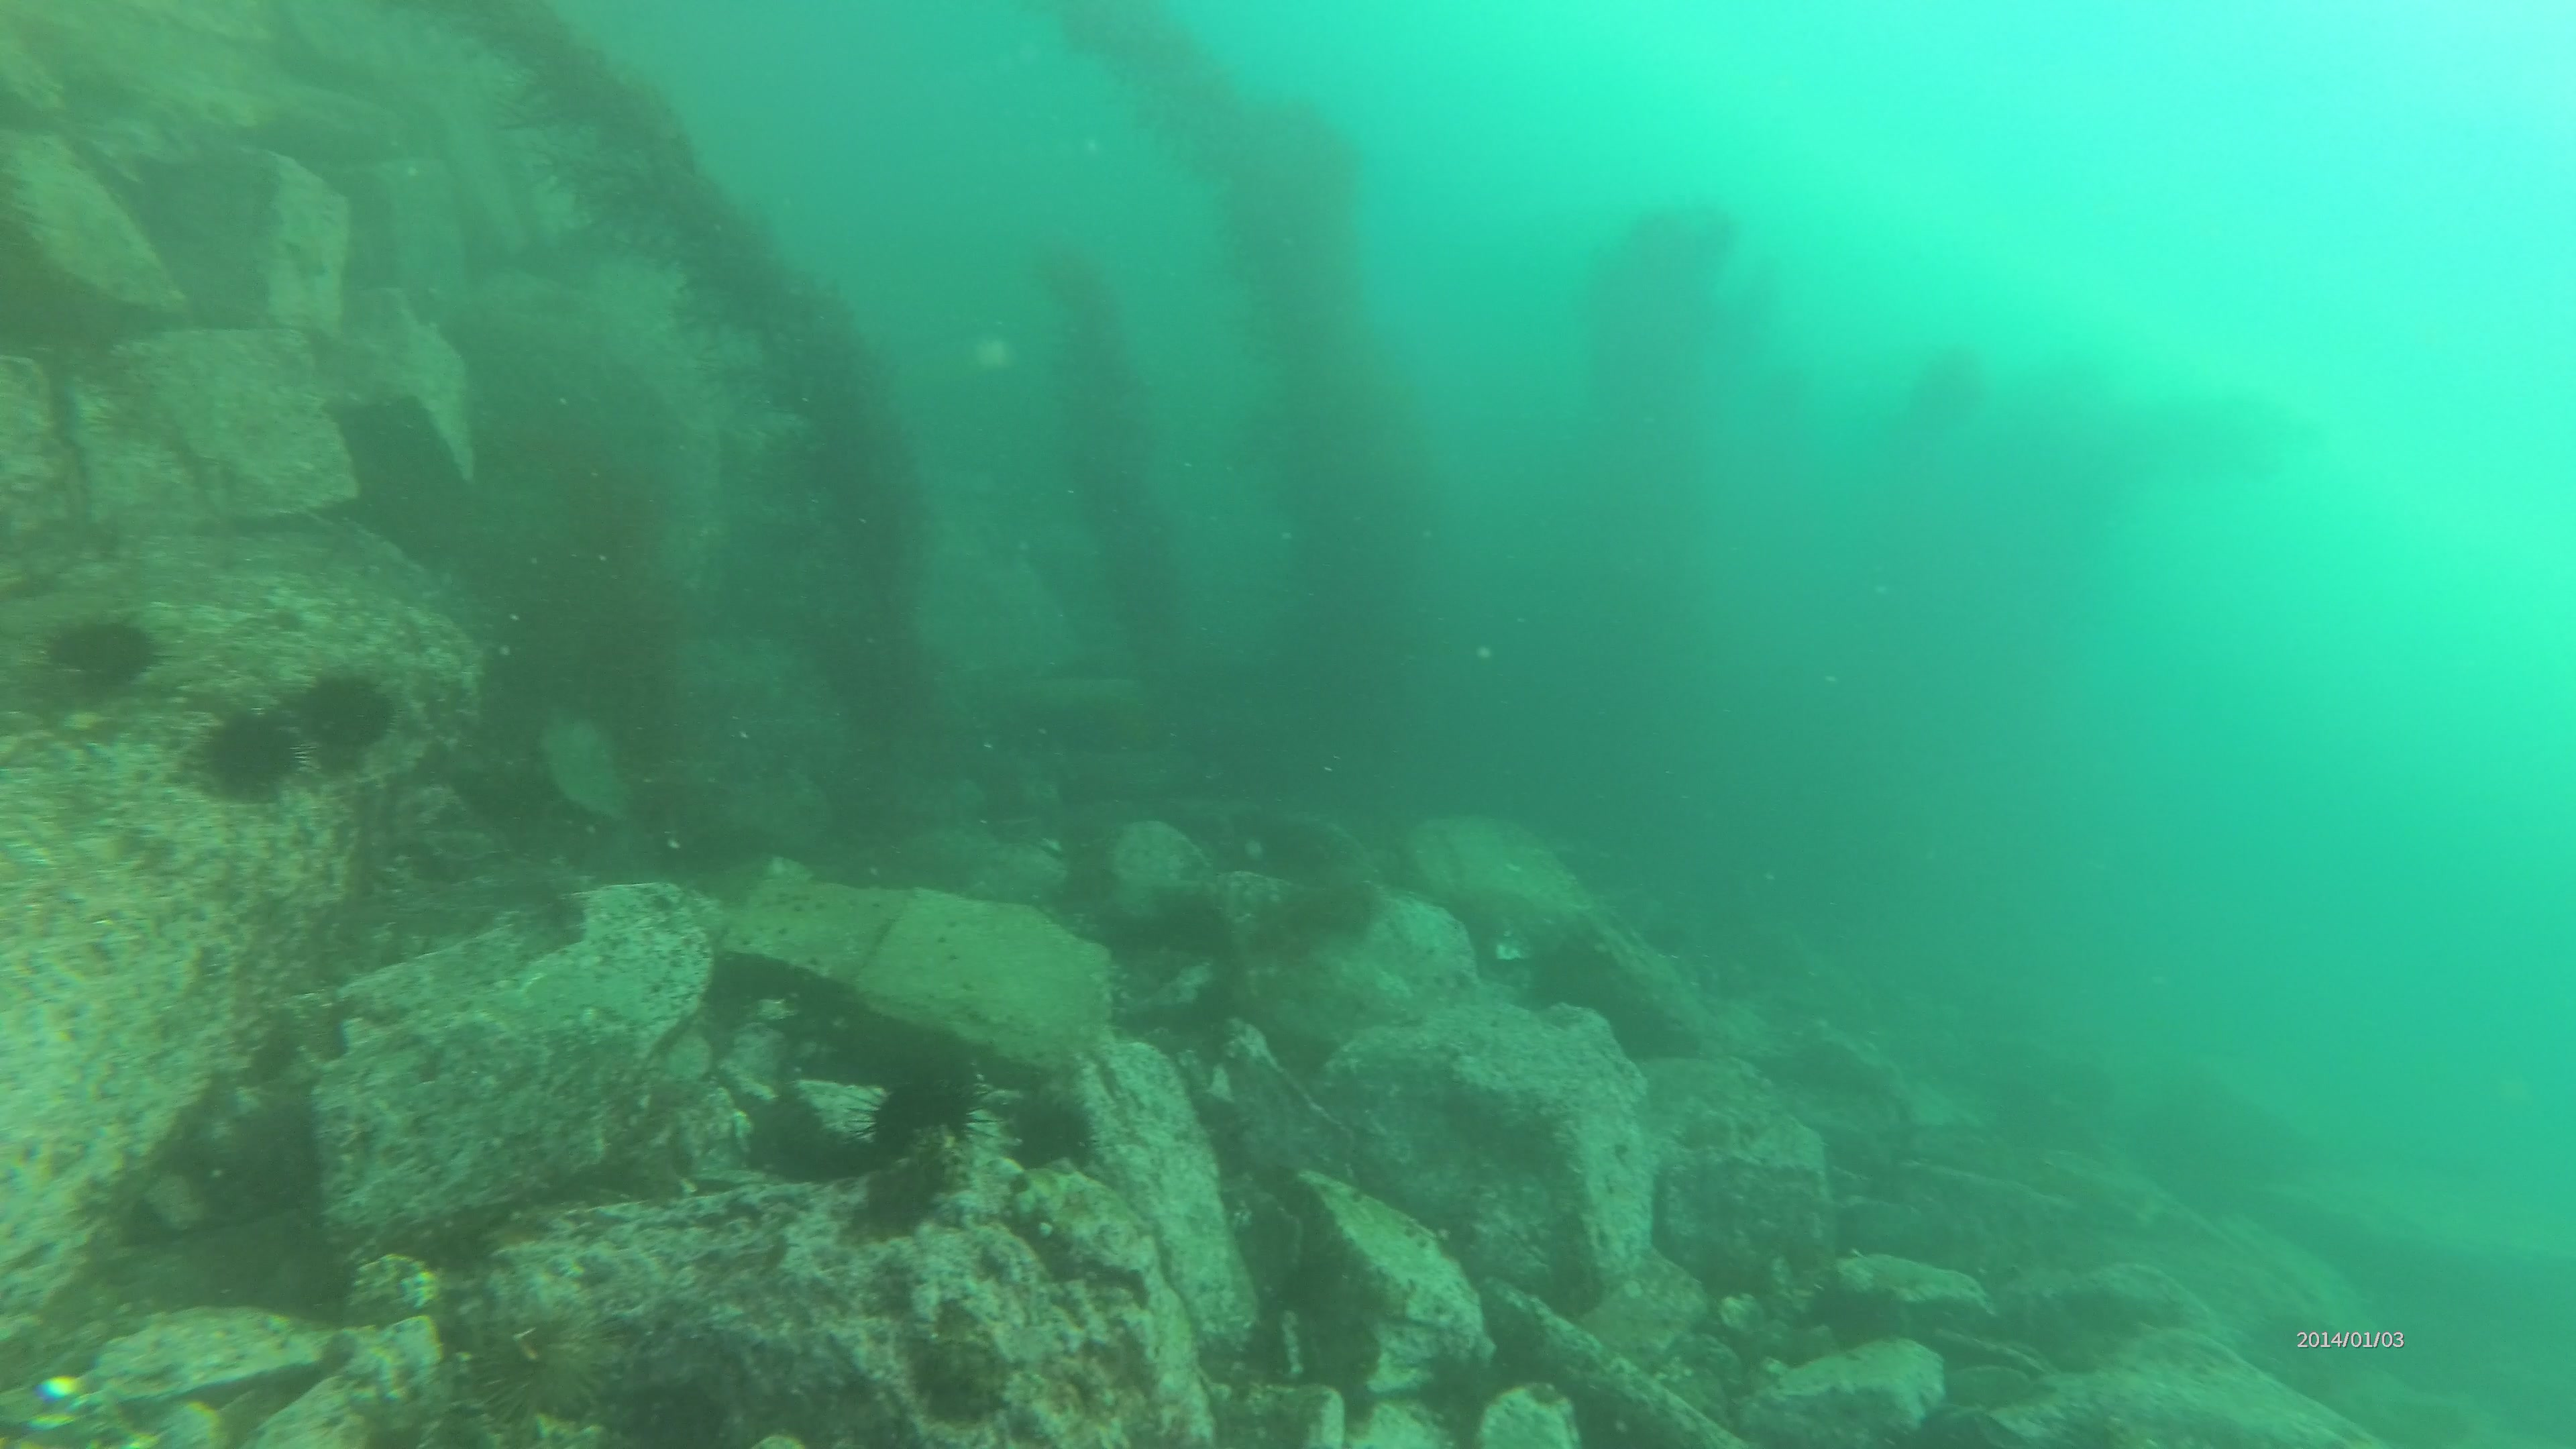echinus: (467, 1300, 609, 1444), (189, 702, 310, 810), (281, 667, 405, 764), (42, 602, 159, 702), (1007, 1079, 1116, 1173)
starfish: (844, 1053, 1012, 1189)
